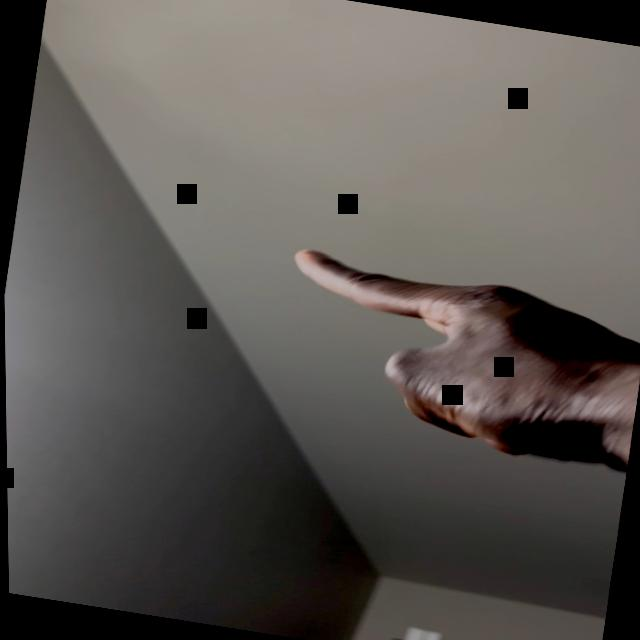Scissors: (271, 249, 640, 477)
